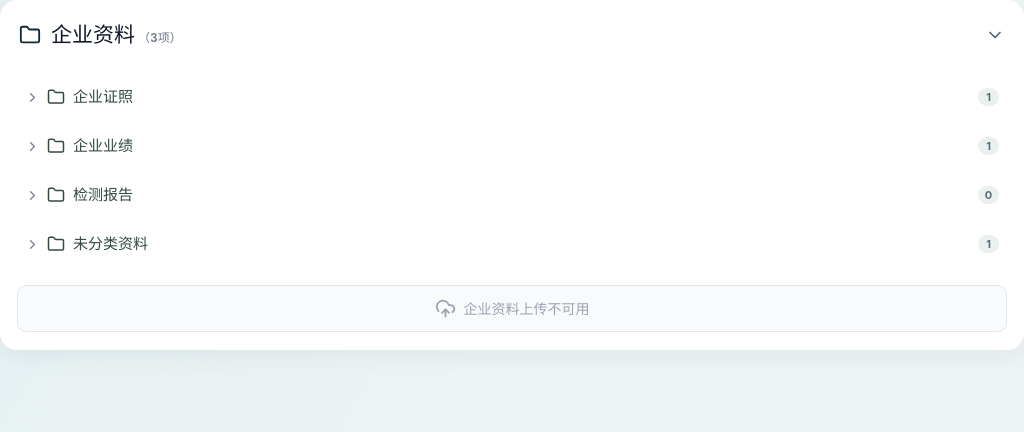
Test case: ProjectSourceRail › expands one real folder at a time and reports an empty backend folder honestly
The image size is (1024, 432).
Click the button with aria-label "企业证照，1项" at x=103, y=96, box [17,74,1007,120]
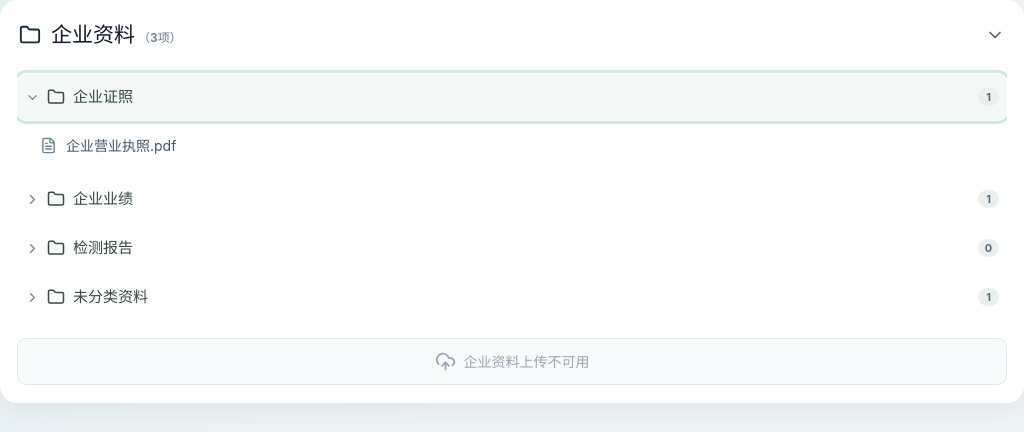
Check: the button with aria-label "企业证照，1项" is expanded
Check: the button named "企业营业执照.pdf" is shown, box [66,130,998,160]
Click the button with aria-label "企业证照，1项" at x=103, y=96, box [17,74,1007,120]
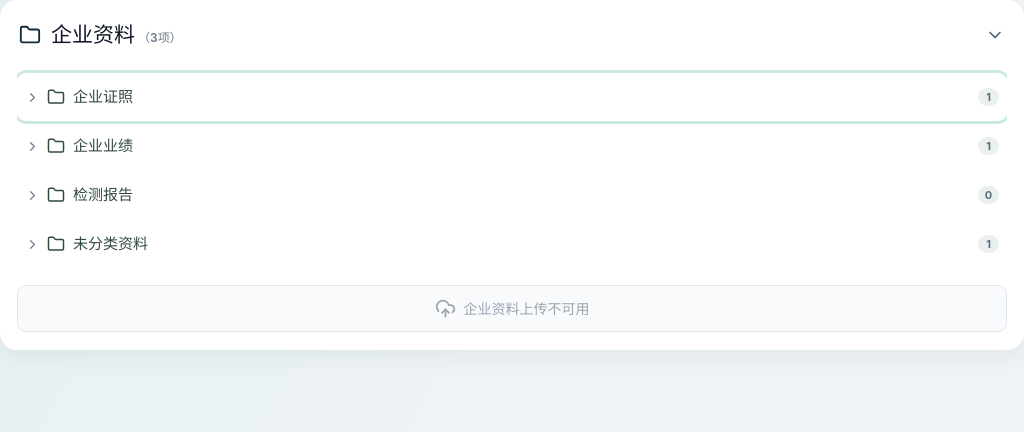
Check: the button with aria-label "企业证照，1项" is collapsed, box [17,74,1007,120]
Click the button with aria-label "检测报告，0项" at x=103, y=194, box [17,172,1007,218]
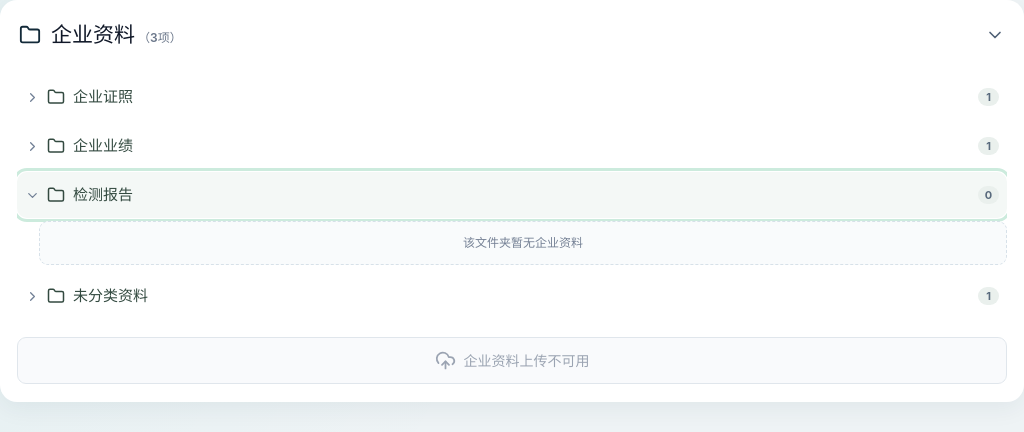
Check: the message reads "该文件夹暂无企业资料", box [463,235,583,250]
